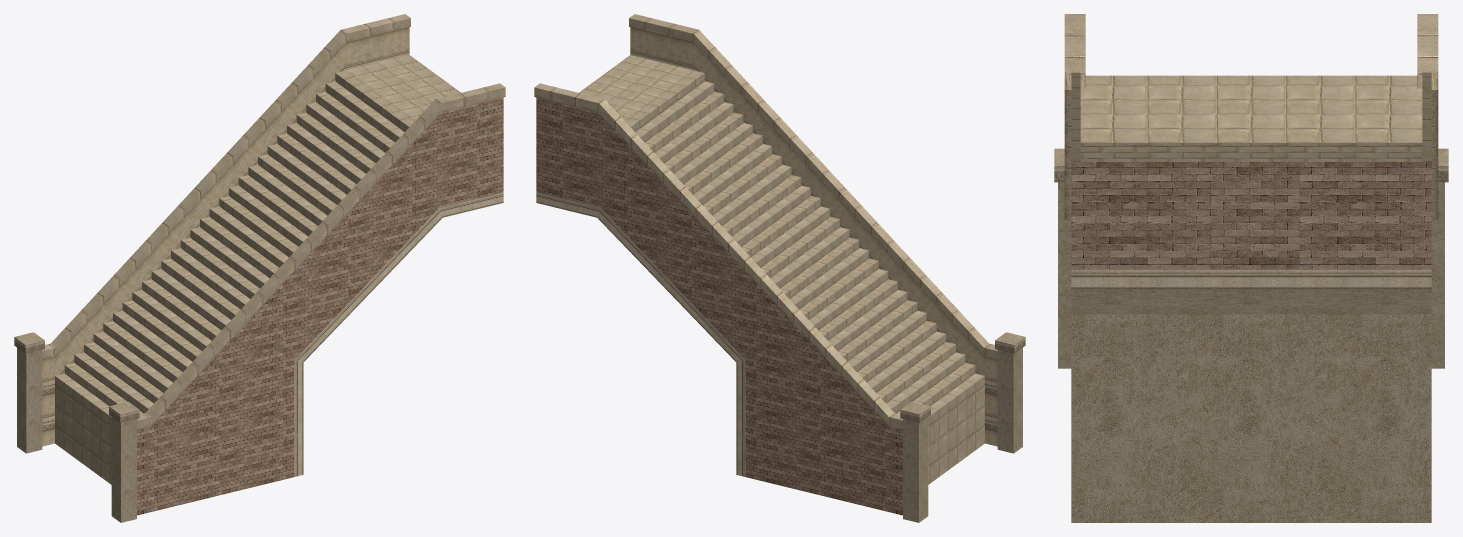
File: thm_nboo_imprv_bridge_stairs_s01_l0.fbx
3 views of the same model, side by side, from view 1: azimuth 30°, elevation 25°; view 2: azimuth 150°, elevation 25°; view 3: azimuth 270°, elevation 25° (orthographic). The views are drawn at different scales.
Parts seen in each view (by area): view 1: mesh_node; view 2: mesh_node; view 3: mesh_node.
Part boxes in pixels (box(x1,y1,x2,y2)): mesh_node: box(14, 14, 505, 522); mesh_node: box(534, 14, 1025, 522); mesh_node: box(1054, 14, 1448, 522).
Bounding box in the file's own units: 12.04 × 10.08 × 5.69.
4 materials, 4 textured.
